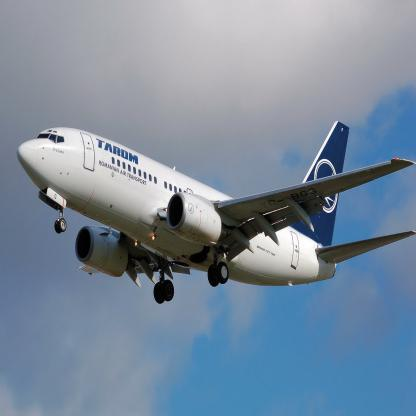CIV_Plane: (15, 118, 416, 305)
